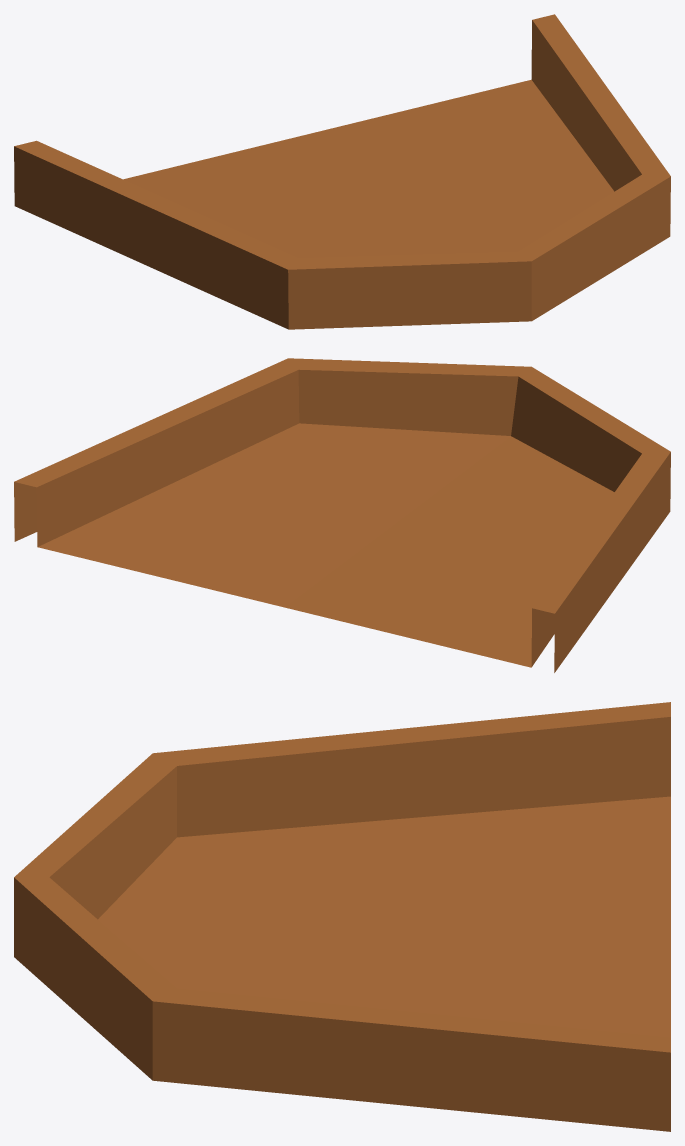
Rendered from ship_front_top.fbx.
3 views of the same model, one above another, from view 1: azimuth 30°, elevation 25°; view 2: azimuth 150°, elevation 25°; view 3: azimuth 270°, elevation 25° (orthographic). The views are drawn at different scales.
Parts seen in each view (by area): view 1: ship_top_front; view 2: ship_top_front; view 3: ship_top_front.
Part boxes in pixels (box(x1,y1,x2,y2)): ship_top_front: box(14, 14, 670, 329); ship_top_front: box(14, 358, 670, 672); ship_top_front: box(14, 702, 670, 1131).
Bounding box in the file's own units: 3.42 × 0.3628 × 2.71.
